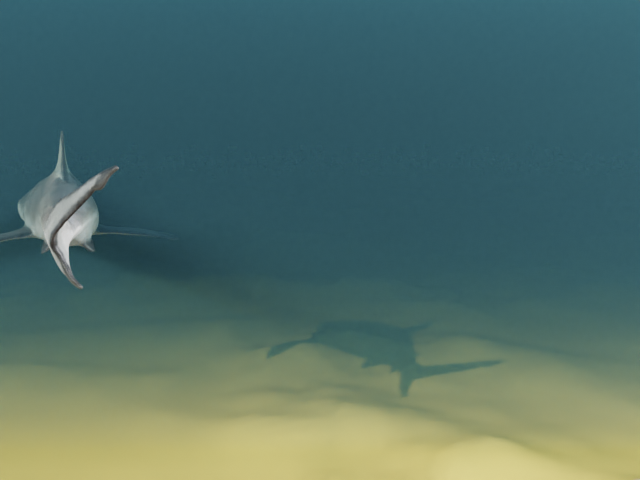Carribean Shark.001: (0, 130, 179, 289)
